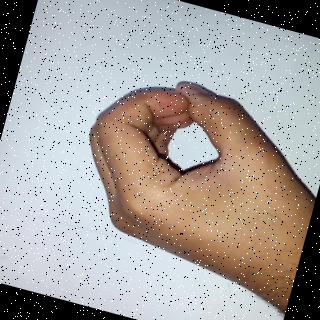O: (42, 49, 320, 285)
